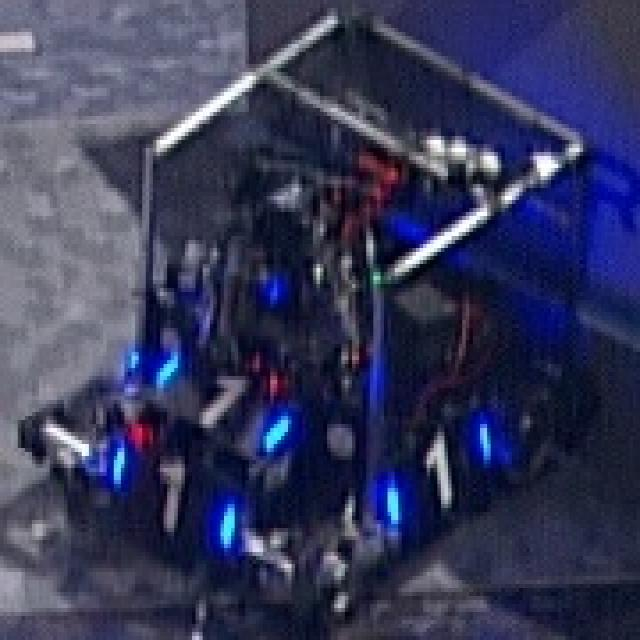B1: (148, 330, 294, 442), (103, 428, 238, 548), (382, 410, 496, 538)
